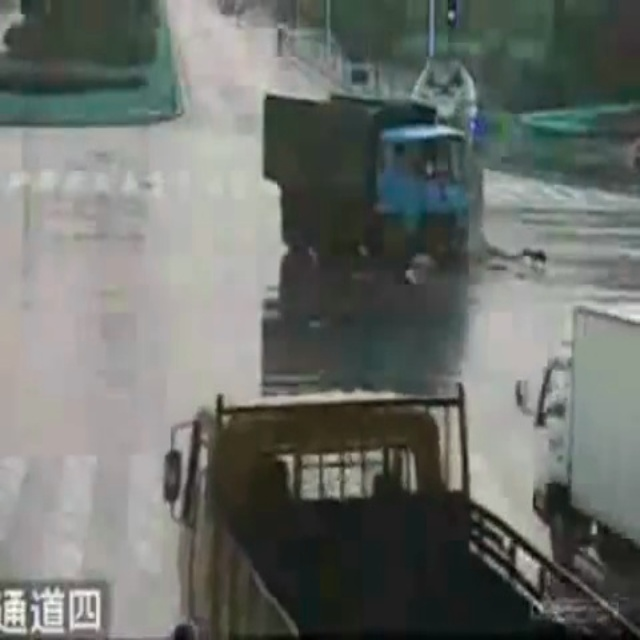acc: (252, 68, 500, 297)
